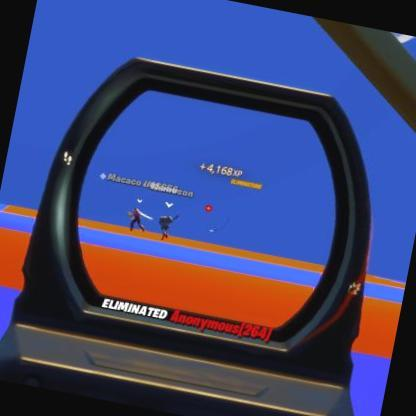person: (126, 206, 152, 233), (156, 211, 172, 233)
